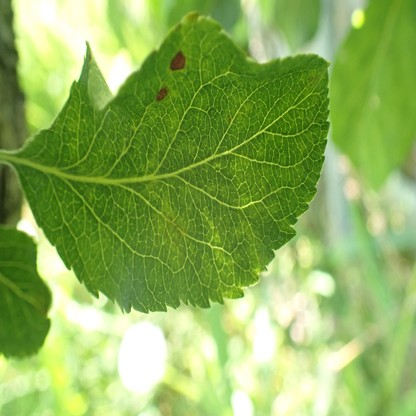frogeye_leaf_spot: (171, 53, 186, 71), (156, 87, 167, 100)
scab: (153, 200, 184, 255)
